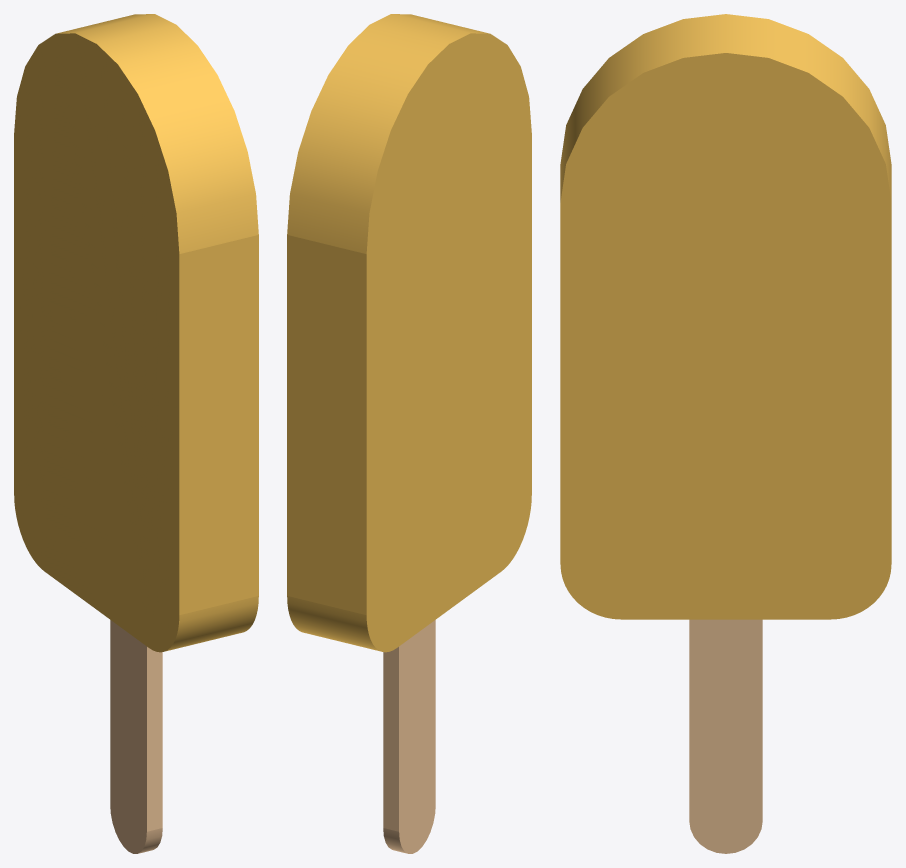
The model's file is popsicle.obj.
3 renders of one model, left to right at view 1: azimuth 30°, elevation 25°; view 2: azimuth 150°, elevation 25°; view 3: azimuth 270°, elevation 25°, orthographic.
Visible parts, largest first — view 1: popsicle; view 2: popsicle; view 3: popsicle.
Boxes of the visible parts, x1,y1,x2,y2 form: popsicle: [14, 14, 258, 853]; popsicle: [287, 14, 531, 853]; popsicle: [560, 14, 891, 853].
Bounding box in the file's own units: 0.05 × 0.49 × 0.18.
